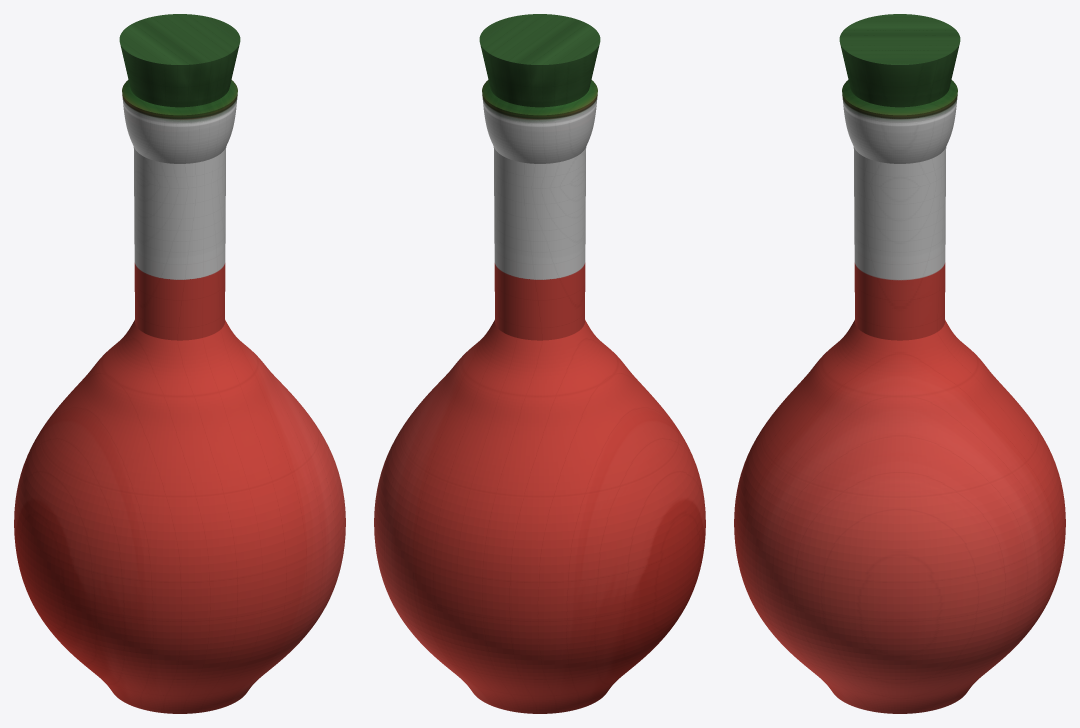
3 views of the same model, side by side, from view 1: azimuth 30°, elevation 25°; view 2: azimuth 150°, elevation 25°; view 3: azimuth 270°, elevation 25° (orthographic).
Parts seen in each view (by area): view 1: Potion.001; view 2: Potion.001; view 3: Potion.001.
Part boxes in pixels (x1=…): Potion.001: x1=14, y1=14, x2=345, y2=713; Potion.001: x1=374, y1=14, x2=705, y2=713; Potion.001: x1=734, y1=14, x2=1065, y2=713.
Bounding box in the file's own units: 175 × 375 × 175.
Materials: 1 (1 with a texture image).
